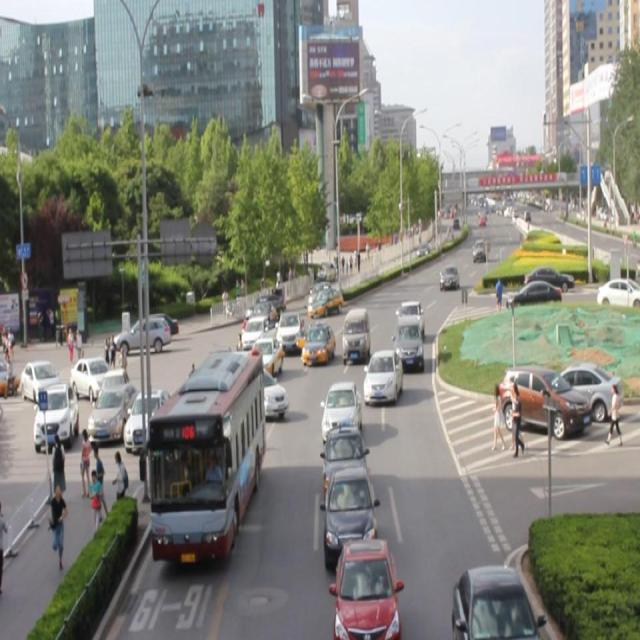car: (333, 539, 399, 640), (455, 564, 530, 640), (324, 467, 378, 562), (235, 358, 288, 422), (322, 425, 367, 499), (322, 381, 361, 443), (362, 349, 400, 402), (211, 345, 245, 395), (248, 334, 288, 376), (304, 316, 338, 362), (274, 306, 305, 354), (395, 316, 423, 368), (311, 279, 348, 315), (396, 298, 424, 336), (241, 315, 269, 350), (439, 261, 460, 291)
truck: (342, 306, 370, 362)
van: (147, 350, 263, 556)
